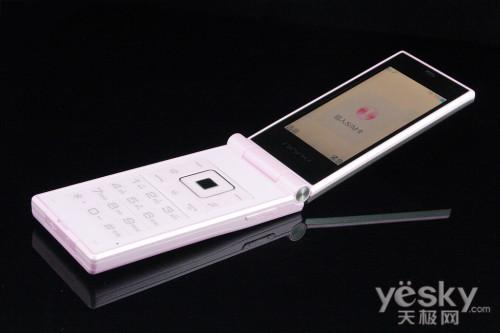phone: (56, 73, 470, 261)
